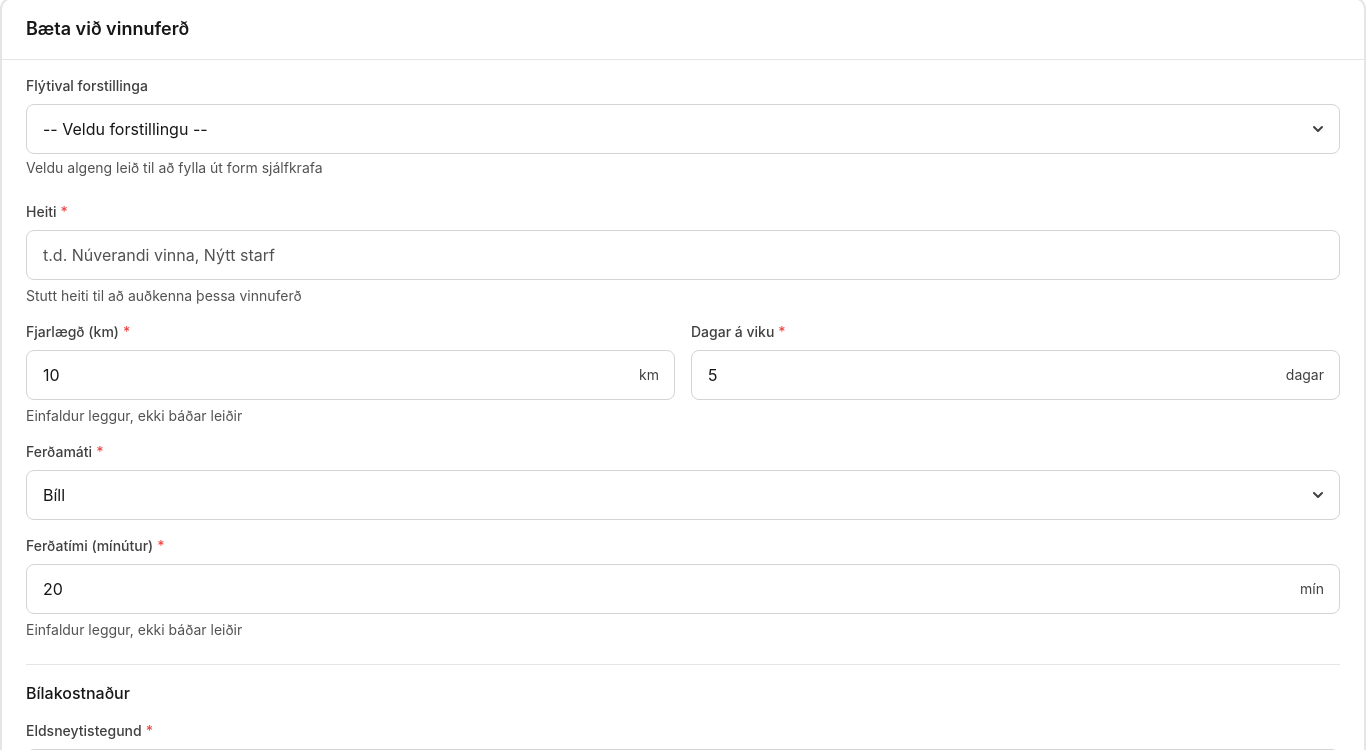
Test: CommuteForm › Conditional Fields › should show bike maintenance field when bike is selected
This screenshot has width=1366, height=750.
Select "Hjólreiðar" in the dropdown labelled "Ferðamáti*". click: point(683, 495)
box: top-left (26, 470), bottom-right (1340, 520)
(page scrolled)
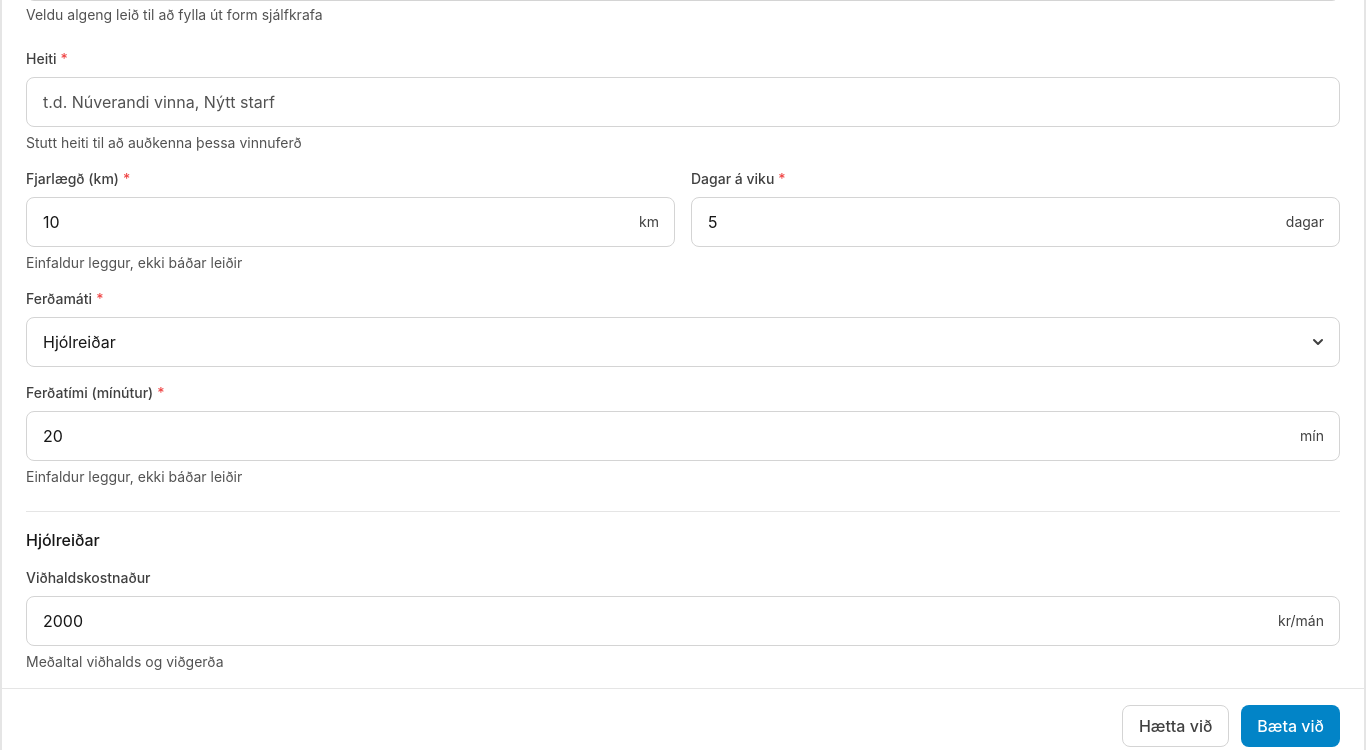
Now the number field labelled "Viðhaldskostnaður" is shown, box top-left (26, 596), bottom-right (1340, 646)
